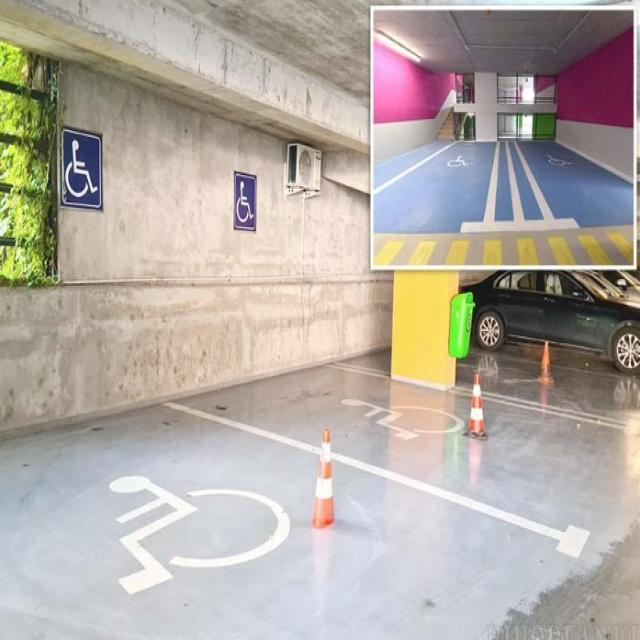symbol_of_access: (459, 267, 639, 373), (60, 126, 103, 210), (232, 166, 258, 234)
